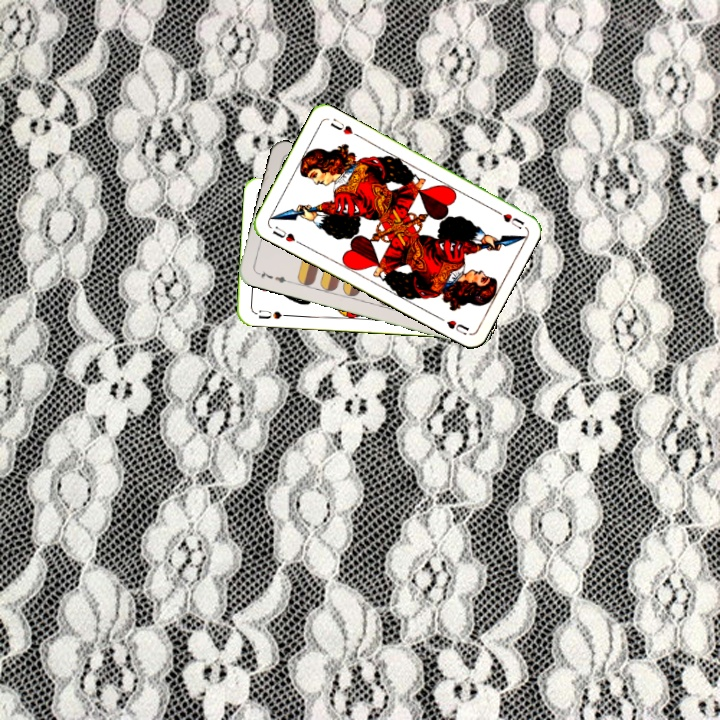E7: (253, 267, 292, 286)
HU: (490, 205, 527, 231), (268, 222, 304, 247)
SU: (254, 306, 291, 322)
